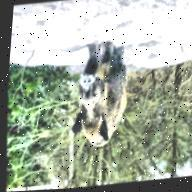boar: (67, 40, 141, 150)
